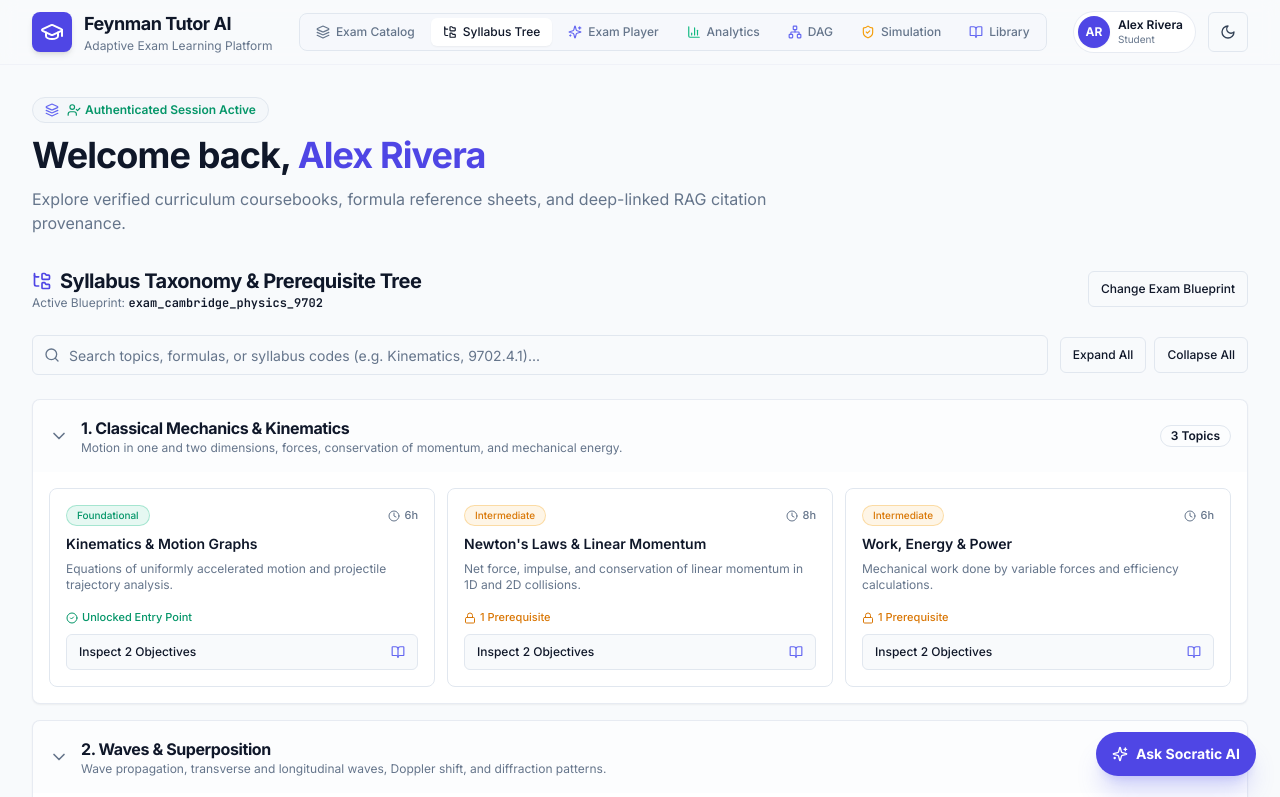
Test: Student Analytics & Error Bank Suite › renders the analytics dashboard, telemetry cards, and SVG radar chart
The image size is (1280, 797).
Click the button "Analytics": x=723, y=32 [675,18,772,46]
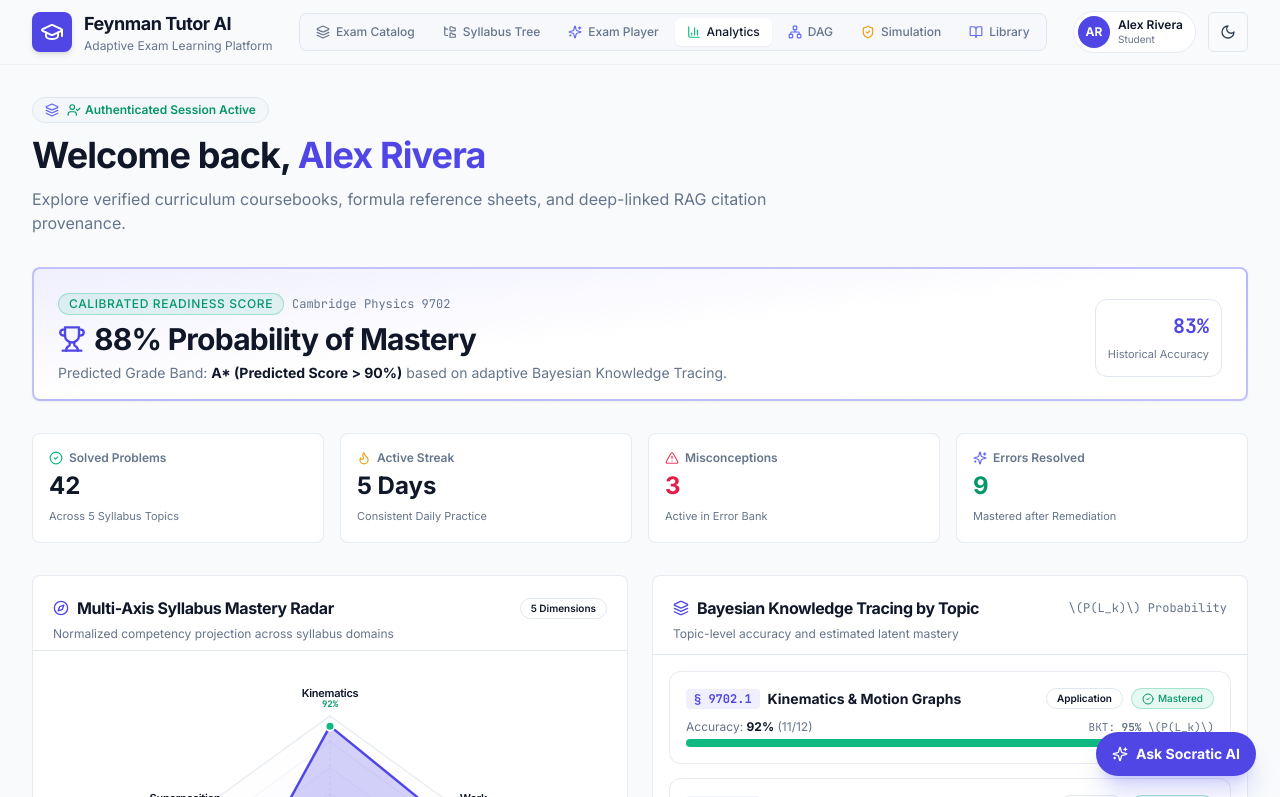
Expected: the heading "88% Probability of Mastery" is shown, [58,321,476,357]
Expected: the text "Solved Problems" is shown, [49,450,166,465]
Expected: the text "Active Streak" is shown, [357,450,454,465]
